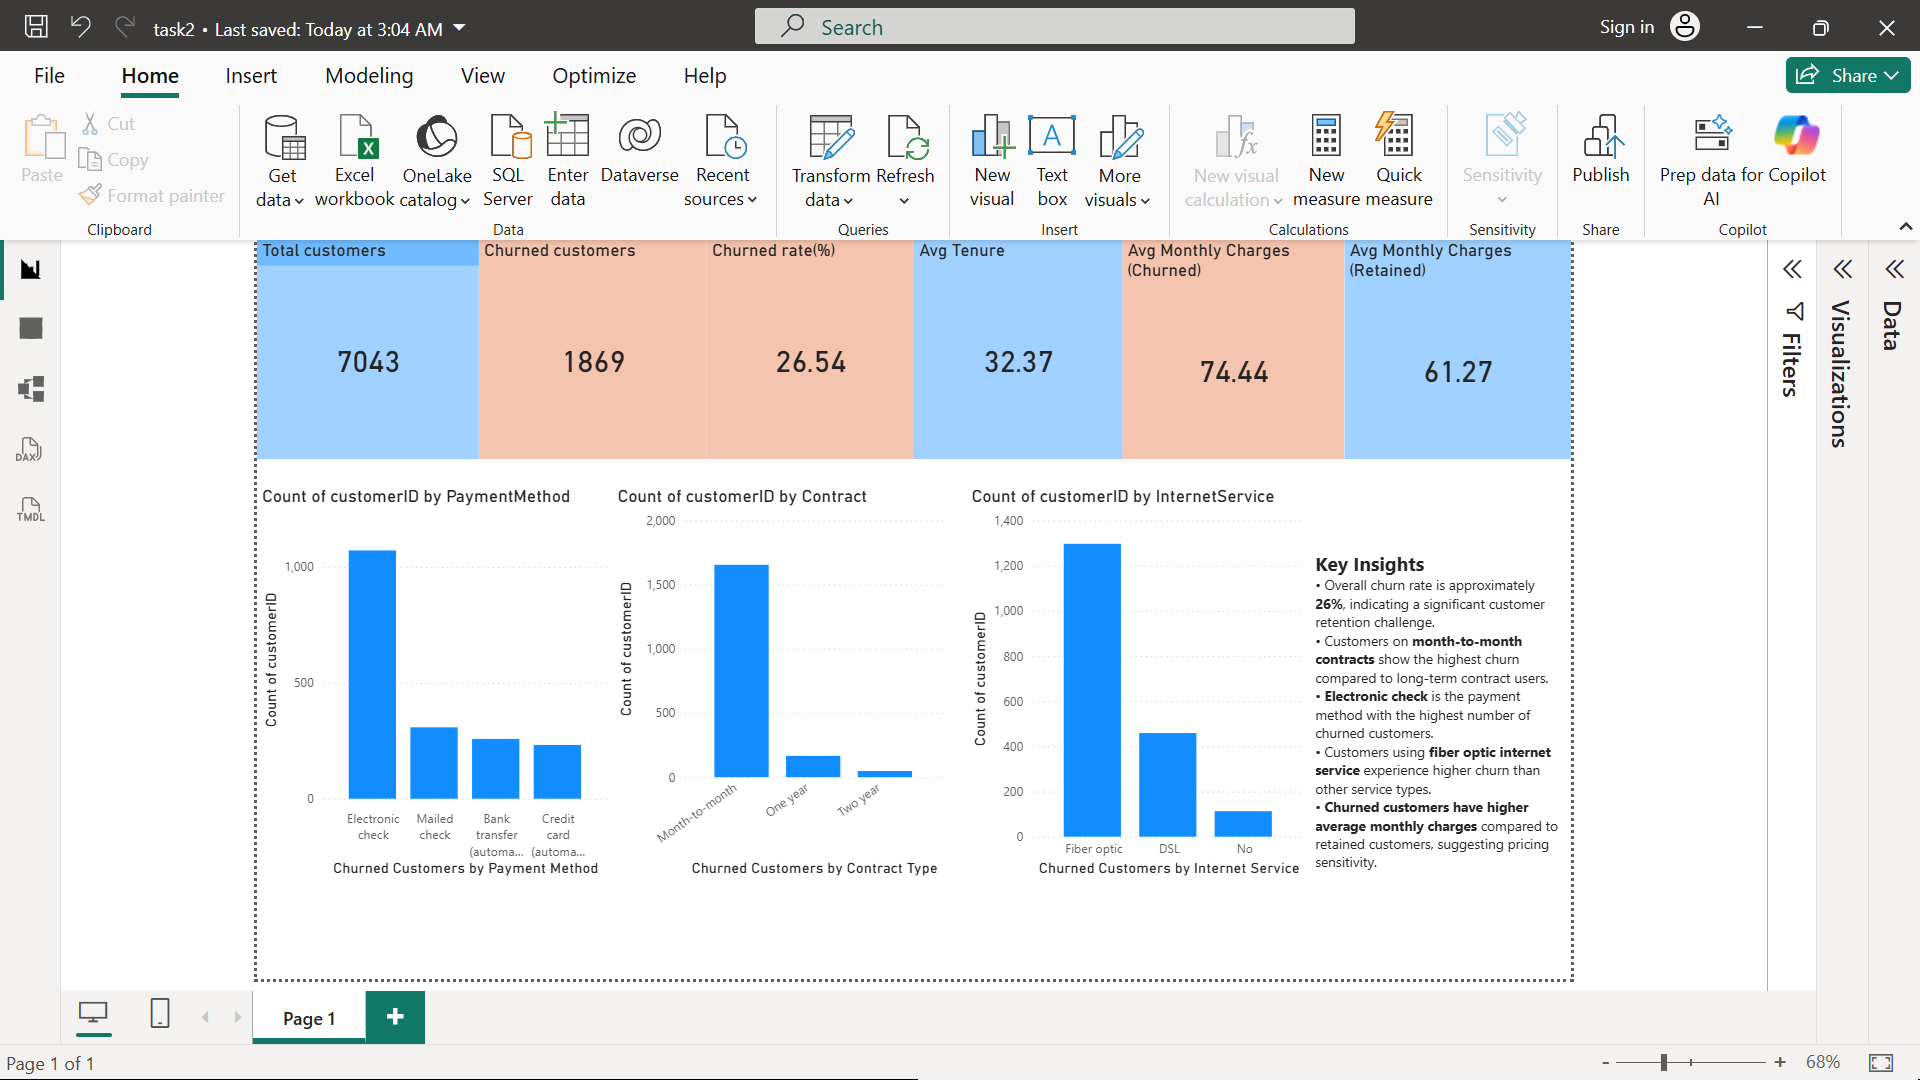

The page's visual inventory and layout, read from the dashboard file:
{"tool":"powerbi","page":{"name":"Page 1","canvas":[1280,720],"ordinal":0},"visuals":[{"type":"card","title":"Total customers","fields":{"Values":["Count(Telco-Customer-Churn.customerID)"]},"box":[0,0,216.3,213.4],"z":0},{"type":"card","title":"Churned customers","fields":{"Values":["Count(Telco-Customer-Churn.customerID)"]},"box":[216.3,0,222.1,213.4],"z":1},{"type":"card","title":"Churned rate(%)","fields":{"Values":["Telco-Customer-Churn.Churn Rate %"]},"box":[438.4,0,201.7,213.4],"z":2},{"type":"card","title":"Avg Tenure","fields":{"Values":["Avg(Telco-Customer-Churn.tenure)"]},"box":[640.1,0,203.1,213.4],"z":3},{"type":"card","title":"Avg Monthly Charges (Churned)","fields":{"Values":["Avg(Telco-Customer-Churn.MonthlyCharges)"]},"box":[843.3,0,216.3,213.4],"z":4},{"type":"card","title":"Avg Monthly Charges (Retained)","fields":{"Values":["Avg(Telco-Customer-Churn.MonthlyCharges)"]},"box":[1059.6,0,220.7,213.4],"z":5},{"type":"clusteredColumnChart","fields":{"Category":["Telco-Customer-Churn.Contract"],"Y":["CountNonNull(Telco-Customer-Churn.customerID)"]},"box":[346.4,239.7,327.4,384.4],"z":6},{"type":"clusteredColumnChart","fields":{"Category":["Telco-Customer-Churn.PaymentMethod"],"Y":["CountNonNull(Telco-Customer-Churn.customerID)"]},"box":[0,239.7,346.4,384.4],"z":7},{"type":"clusteredColumnChart","fields":{"Y":["CountNonNull(Telco-Customer-Churn.customerID)"],"Category":["Telco-Customer-Churn.InternetService"]},"box":[691.3,239.7,334.7,384.4],"z":8},{"type":"textbox","box":[1025.9,296.7,254.3,327.4],"z":9}]}

Visuals, with their boxes on the page's 1280x720 design canvas (x1, y1, x2, y2). These are canvas units, not pixel positions in the 1920x1080 screenshot, which may show the page scaled, cropped or inside an application window:
"Total customers" card: (left=0, top=0, right=216, bottom=213)
"Churned customers" card: (left=216, top=0, right=438, bottom=213)
"Churned rate(%)" card: (left=438, top=0, right=640, bottom=213)
"Avg Tenure" card: (left=640, top=0, right=843, bottom=213)
"Avg Monthly Charges (Churned)" card: (left=843, top=0, right=1060, bottom=213)
"Avg Monthly Charges (Retained)" card: (left=1060, top=0, right=1280, bottom=213)
clusteredColumnChart - Telco-Customer-Churn.Contract x CountNonNull(Telco-Customer-Churn.customerID): (left=346, top=240, right=674, bottom=624)
clusteredColumnChart - Telco-Customer-Churn.PaymentMethod x CountNonNull(Telco-Customer-Churn.customerID): (left=0, top=240, right=346, bottom=624)
clusteredColumnChart - CountNonNull(Telco-Customer-Churn.customerID) x Telco-Customer-Churn.InternetService: (left=691, top=240, right=1026, bottom=624)
textbox: (left=1026, top=297, right=1280, bottom=624)
